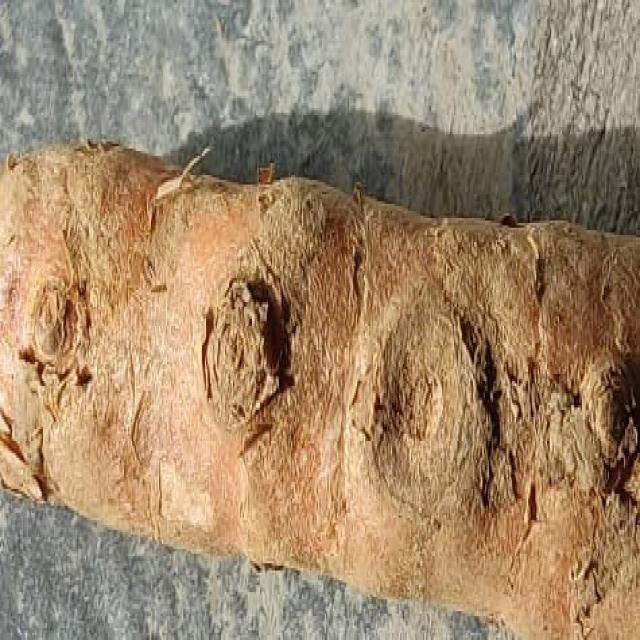ginger: (0, 135, 640, 640)
